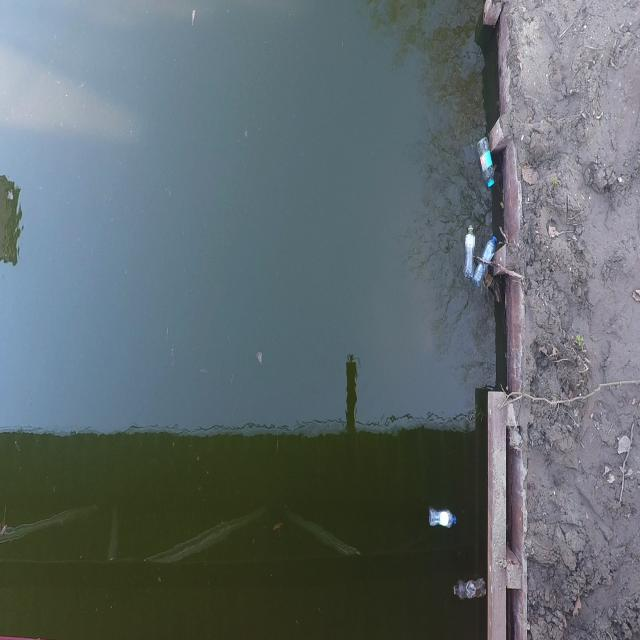Bouteille plastique: (475, 237, 496, 284), (478, 136, 494, 185), (454, 579, 487, 599), (463, 223, 474, 278), (429, 510, 457, 528)
